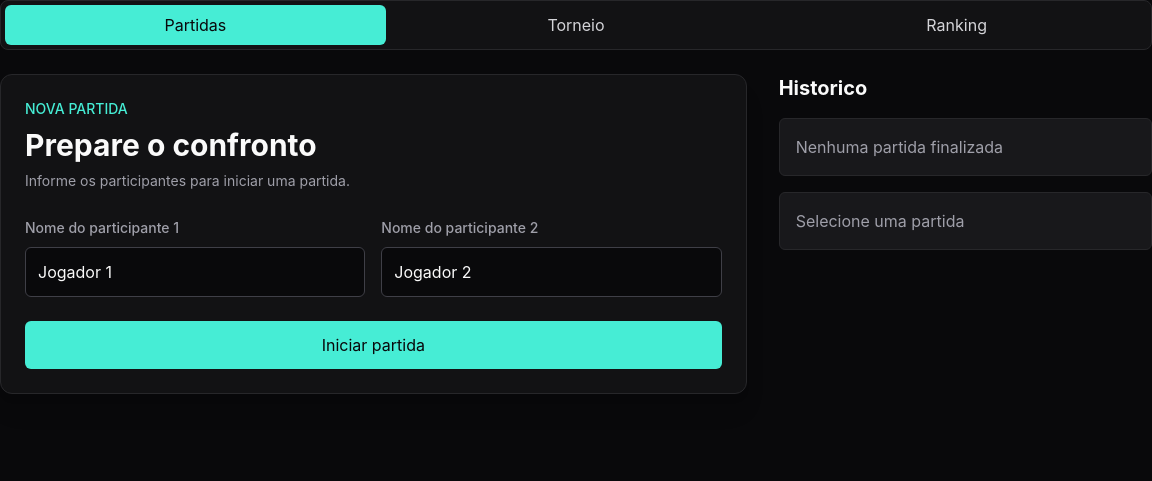
TennisWorkspace › opens the functional tournament setup
Click the button "Torneio" at (576, 25), box top-left (386, 5), bottom-right (766, 45)
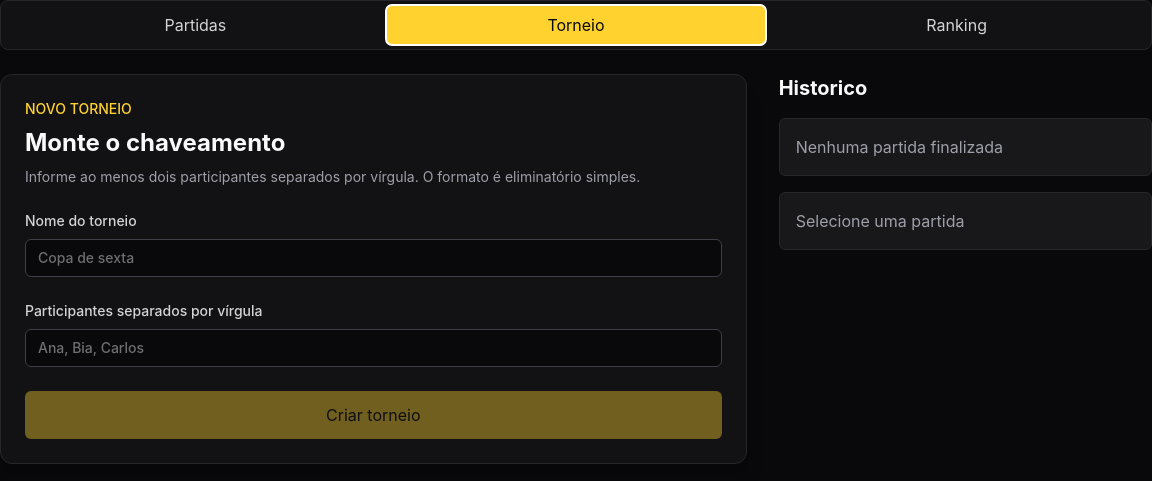
Check: the text "Novo torneio" is shown, box top-left (25, 100), bottom-right (132, 117)
Check: the heading "Monte o chaveamento" is shown, box top-left (25, 128), bottom-right (285, 157)
Check: the field labelled "Nome do torneio" is shown, box top-left (25, 239), bottom-right (722, 277)
